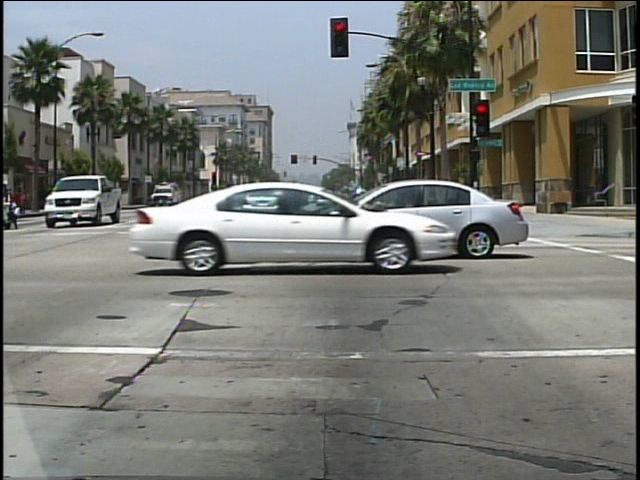person: (1, 176, 22, 232)
